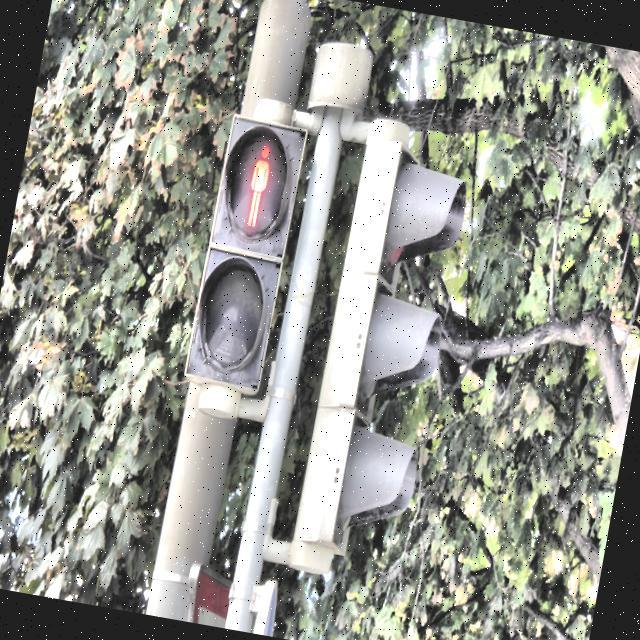red_light: (240, 140, 276, 232)
